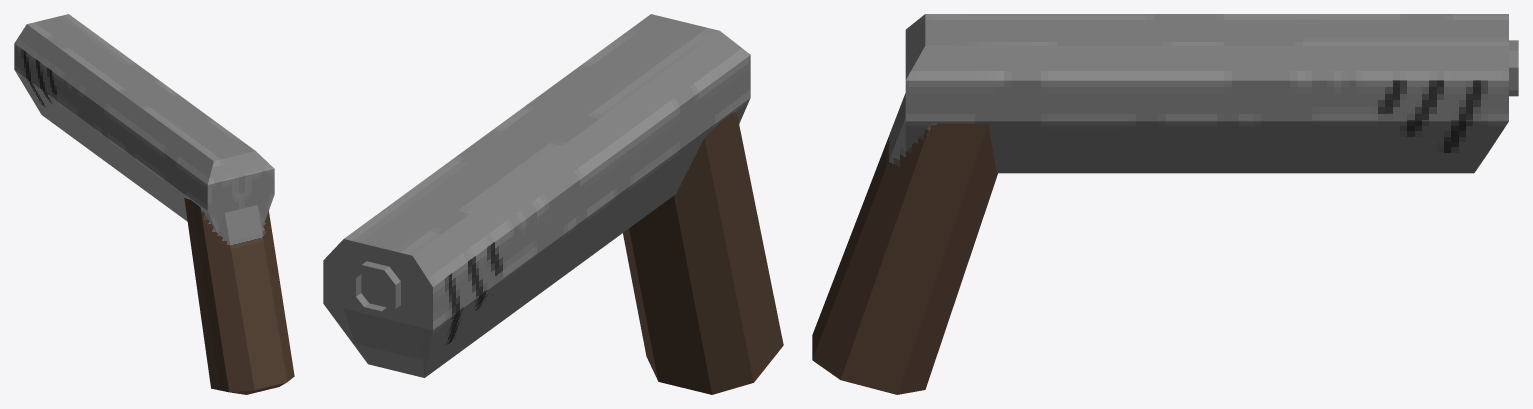
The model's file is PistolV3.glb.
The picture shows the model from 3 angles, left to right: view 1: azimuth 30°, elevation 25°; view 2: azimuth 150°, elevation 25°; view 3: azimuth 270°, elevation 25°; orthographic projection. The views are drawn at different scales.
Visible parts, largest first — view 1: Barrel, Handle; view 2: Barrel, Handle, Cylinder; view 3: Barrel, Handle.
Boxes of the visible parts, bbox=[...] form: Barrel: bbox=[14, 14, 274, 233]; Handle: bbox=[184, 198, 294, 394]; Barrel: bbox=[323, 14, 750, 377]; Handle: bbox=[623, 110, 783, 394]; Cylinder: bbox=[350, 261, 400, 317]; Barrel: bbox=[905, 14, 1508, 173]; Handle: bbox=[812, 93, 997, 394].
Size of the model in its own units: 0.6444 by 2.06 by 3.78.
Materials: 2 (2 with a texture image).
